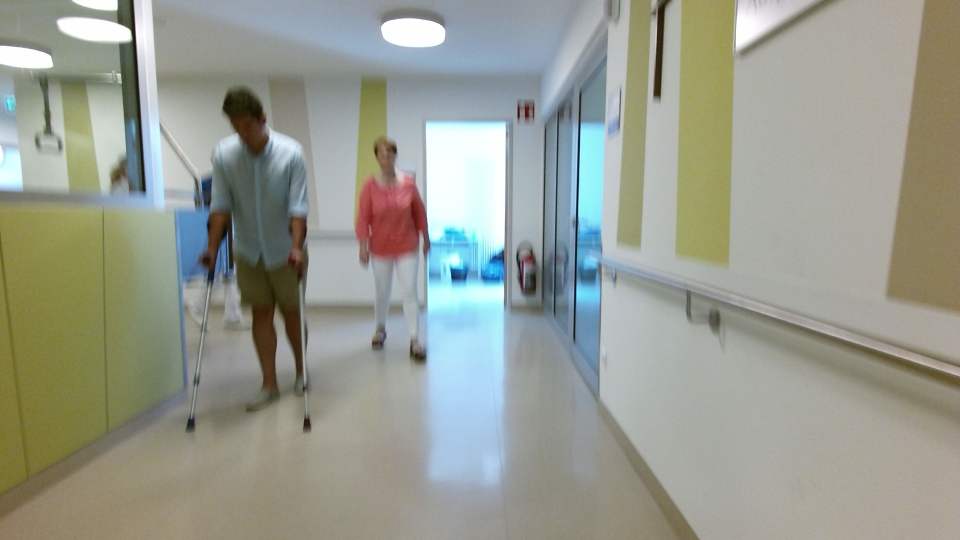crutches: (173, 79, 321, 435)
